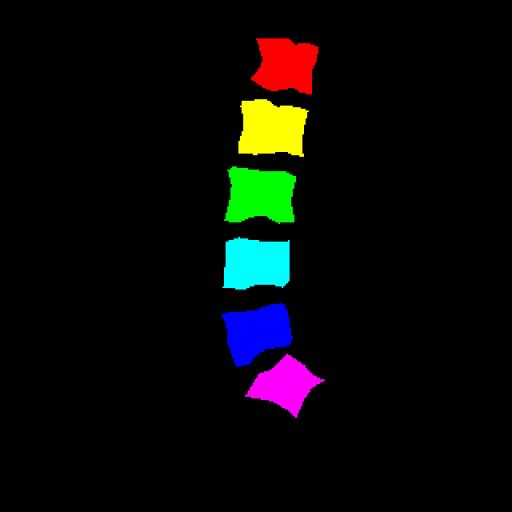L1: (251, 38, 318, 94)
L2: (240, 99, 308, 156)
L3: (226, 166, 294, 222)
L4: (223, 238, 289, 290)
L5: (221, 304, 291, 366)
S1: (245, 354, 324, 416)
